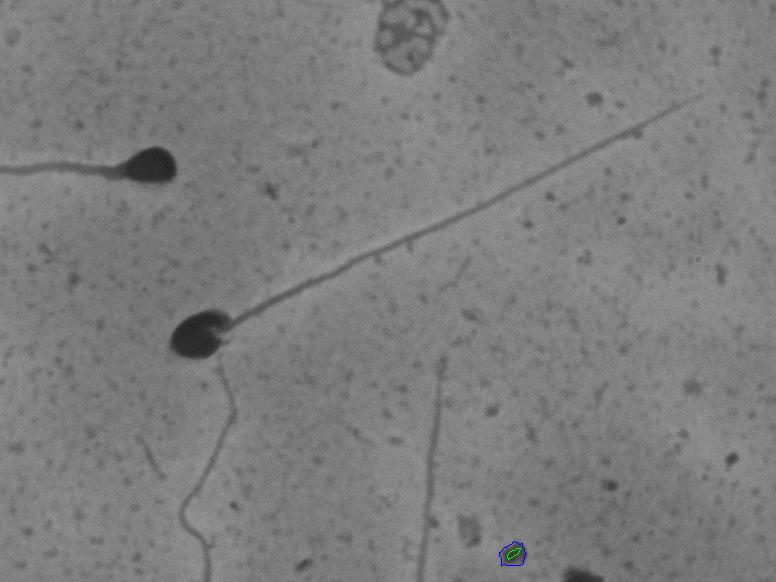Abnormal: (159, 203, 698, 389), (17, 119, 195, 226)
